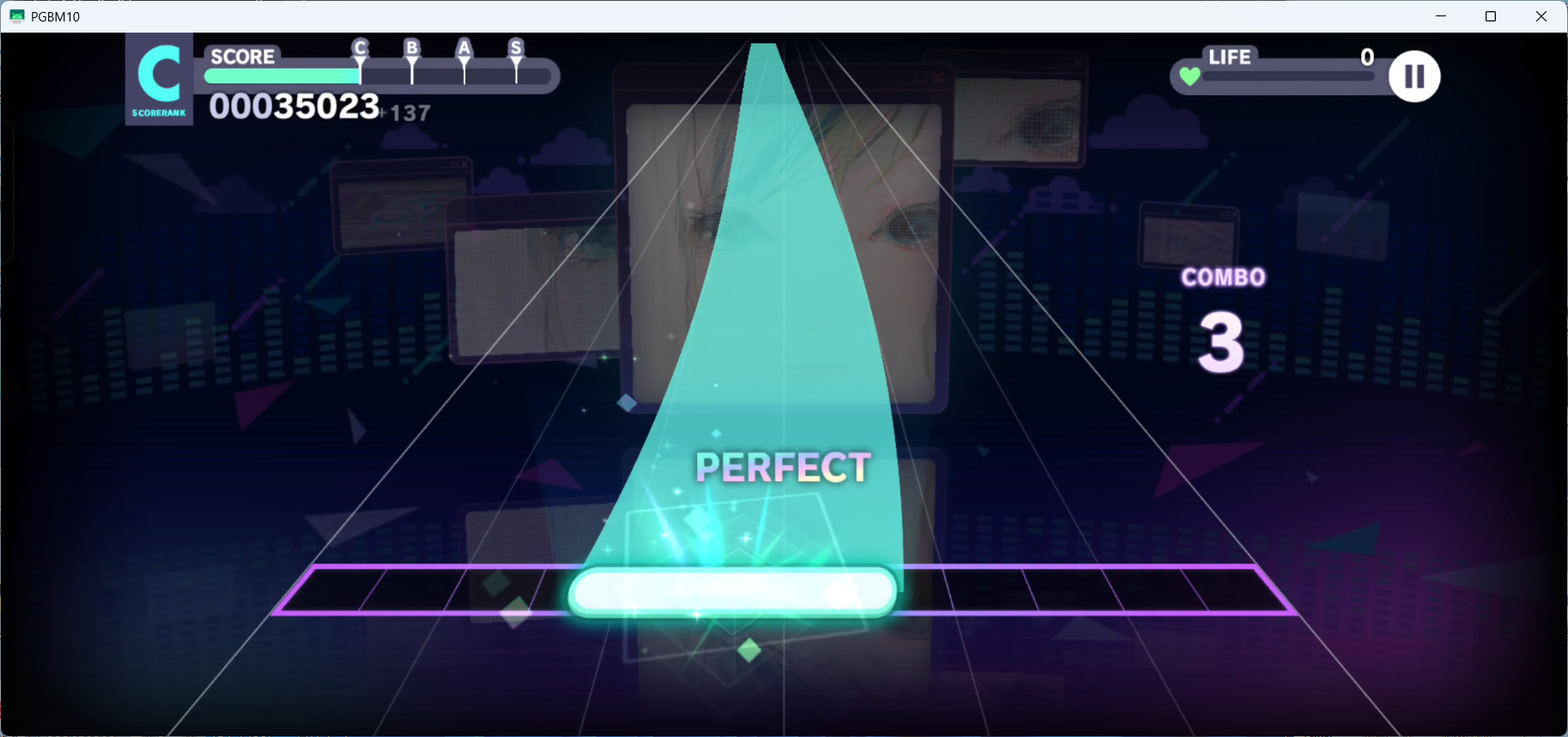hold: (596, 58, 903, 568)
tap: (568, 568, 899, 621)
